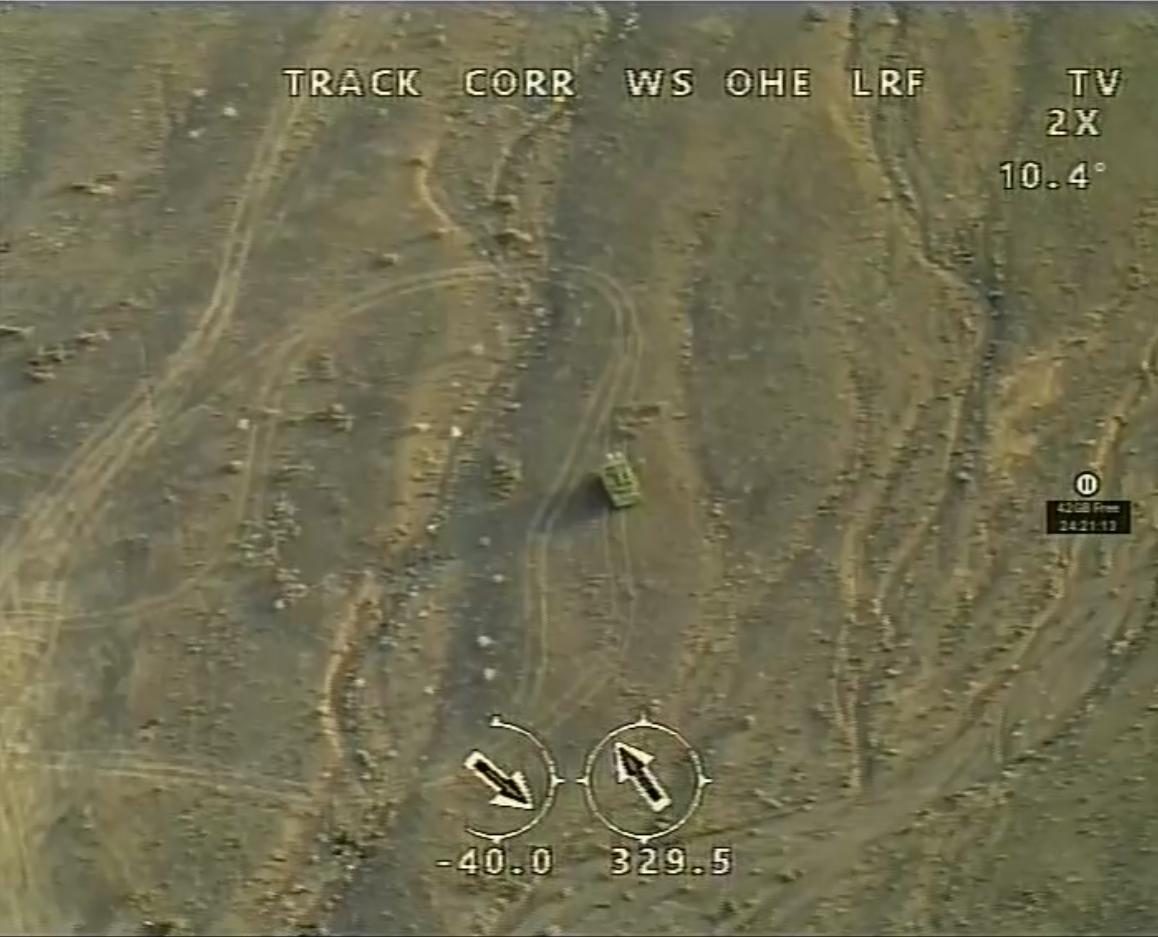armored_car: (595, 448, 644, 510)
